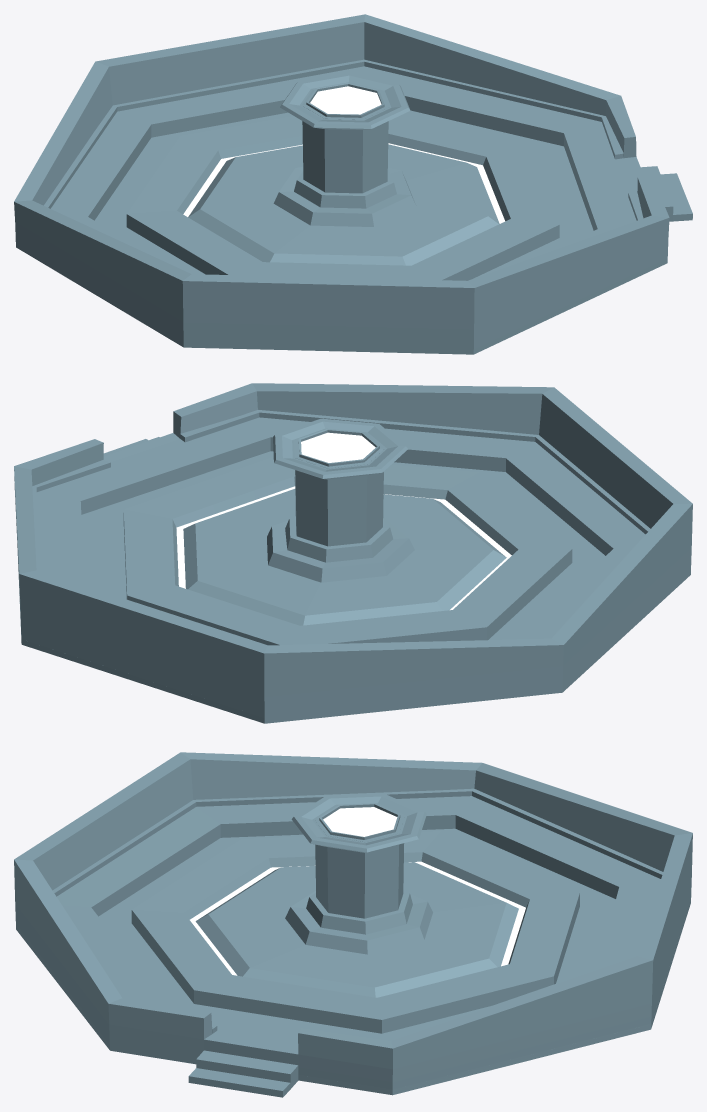
File: shrine.fbx
The picture shows the model from 3 angles, top to bottom: view 1: azimuth 30°, elevation 25°; view 2: azimuth 150°, elevation 25°; view 3: azimuth 270°, elevation 25°; orthographic projection. The views are drawn at different scales.
Parts seen in each view (by area): view 1: shrine.007; view 2: shrine.007; view 3: shrine.007.
Boxes of the visible parts, <box> form: shrine.007: <box>14,14,692,354</box>; shrine.007: <box>14,383,692,723</box>; shrine.007: <box>14,752,692,1097</box>.
Bounding box in the file's own units: 737 × 155 × 737.
